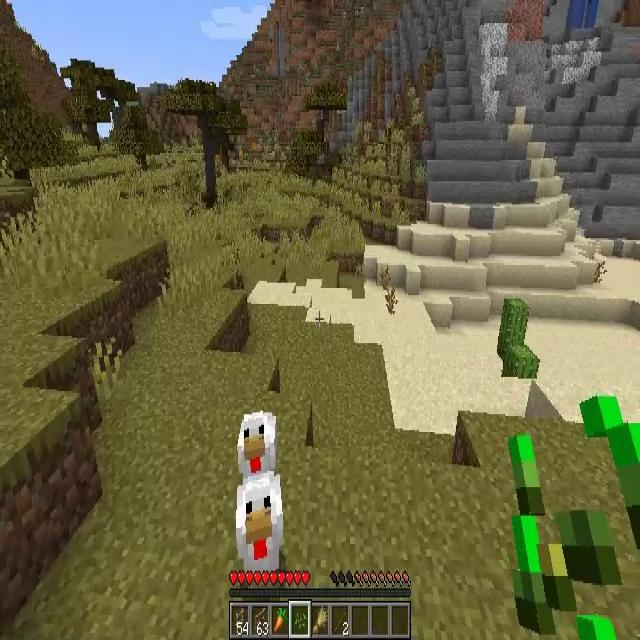duck: (236, 474, 282, 567), (238, 408, 276, 474)
